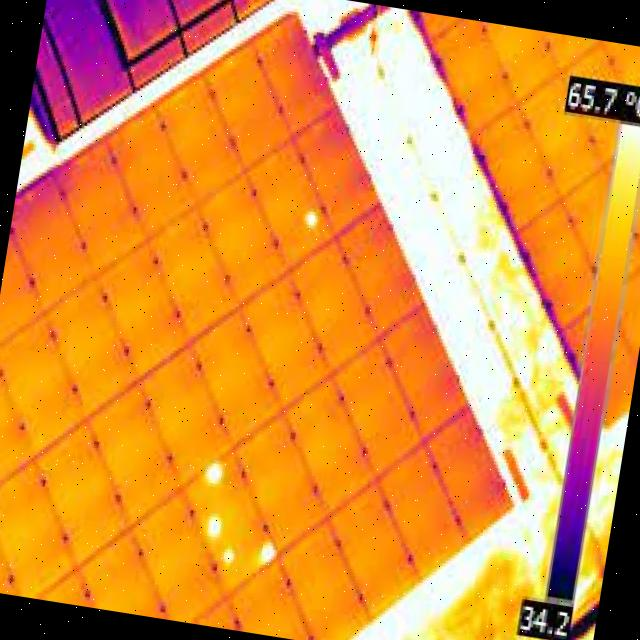Hotspot: (202, 459, 226, 488), (204, 512, 223, 542), (258, 538, 278, 566), (220, 545, 238, 567), (306, 212, 318, 226)
